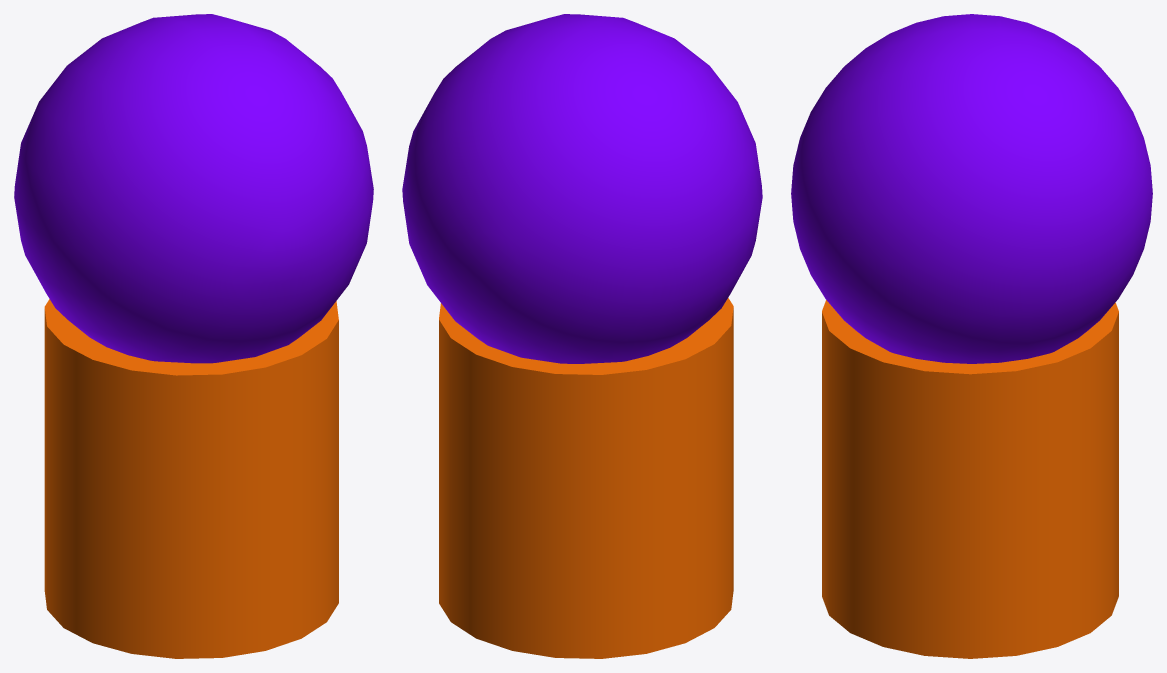
The model's file is Obstacles4.glb.
3 views of the same model, side by side, from view 1: azimuth 30°, elevation 25°; view 2: azimuth 150°, elevation 25°; view 3: azimuth 270°, elevation 25° (orthographic).
Visible parts, largest first — view 1: obstacle_4; view 2: obstacle_4; view 3: obstacle_4.
Boxes of the visible parts, <box> form: obstacle_4: <box>14,14,373,658</box>; obstacle_4: <box>402,14,762,658</box>; obstacle_4: <box>791,14,1152,658</box>.
Size of the model in its own units: 0.0991 by 0.1716 by 0.0991.
Materials: 2 (2 with a texture image).
